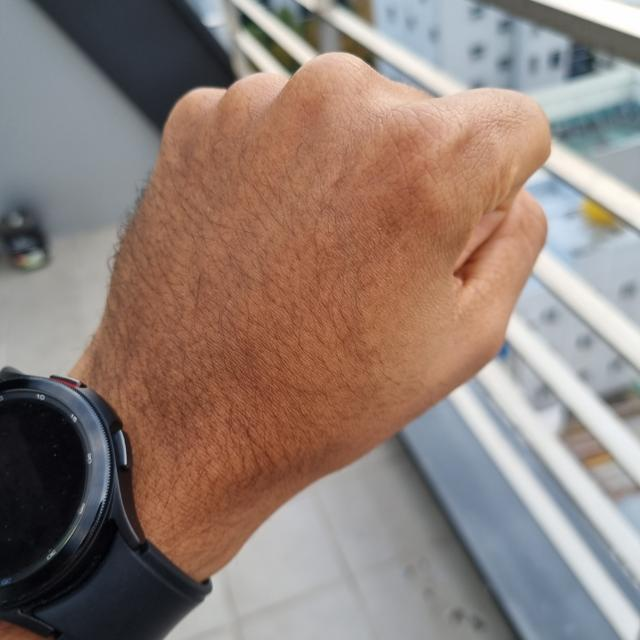Rock: (89, 53, 552, 488)
